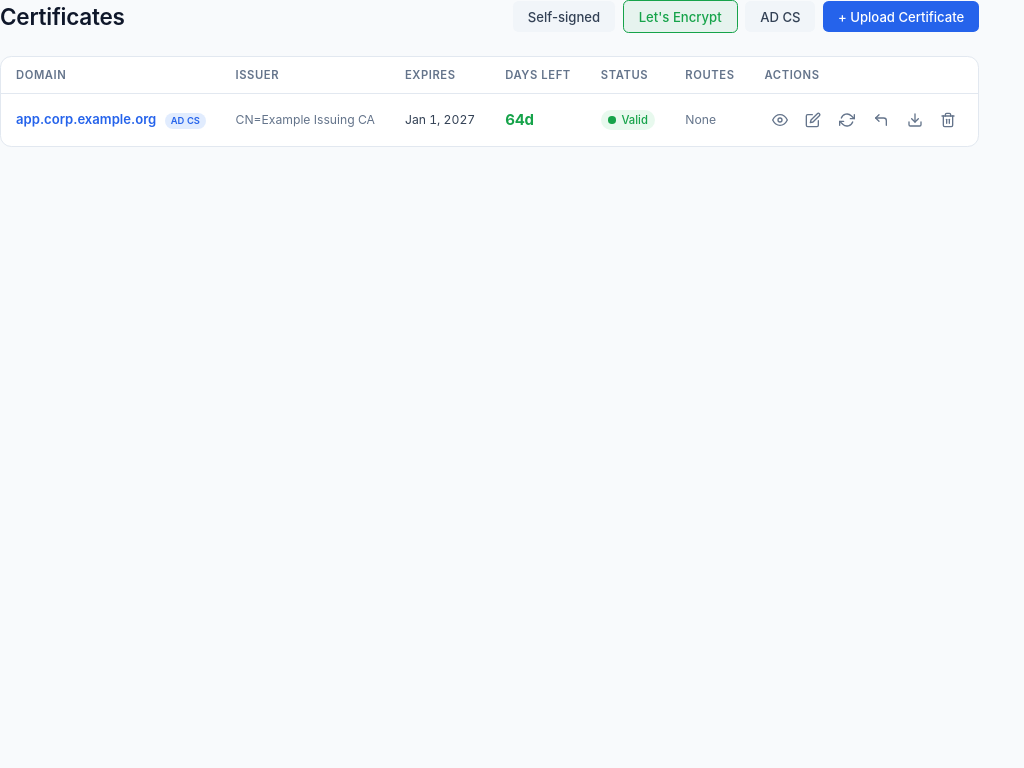
Scenario: Certificates AD CS "Renew now" outcomes › 200: shows the subject as issued and the new expiry
This screenshot has width=1024, height=768.
Check: the button "app.corp.example.org" is shown, box x1=16 y1=111 x2=156 y2=127
What coordinates should you click on to do the following:
click the button named "Renew certificate from AD CS"
I would click on:
 (847, 120)
Its box is x1=832 y1=105 x2=862 y2=135.
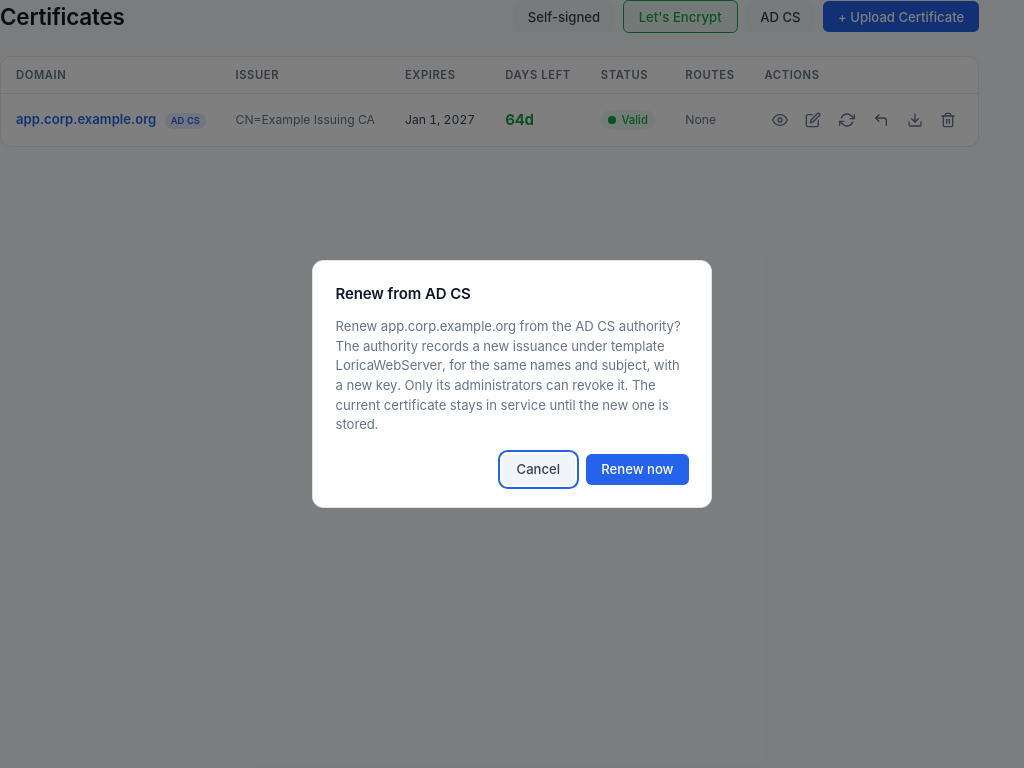
What coordinates should you click on to do the following:
click the button "Renew now"
I would click on:
 (637, 469)
Its box is x1=586 y1=454 x2=688 y2=485.
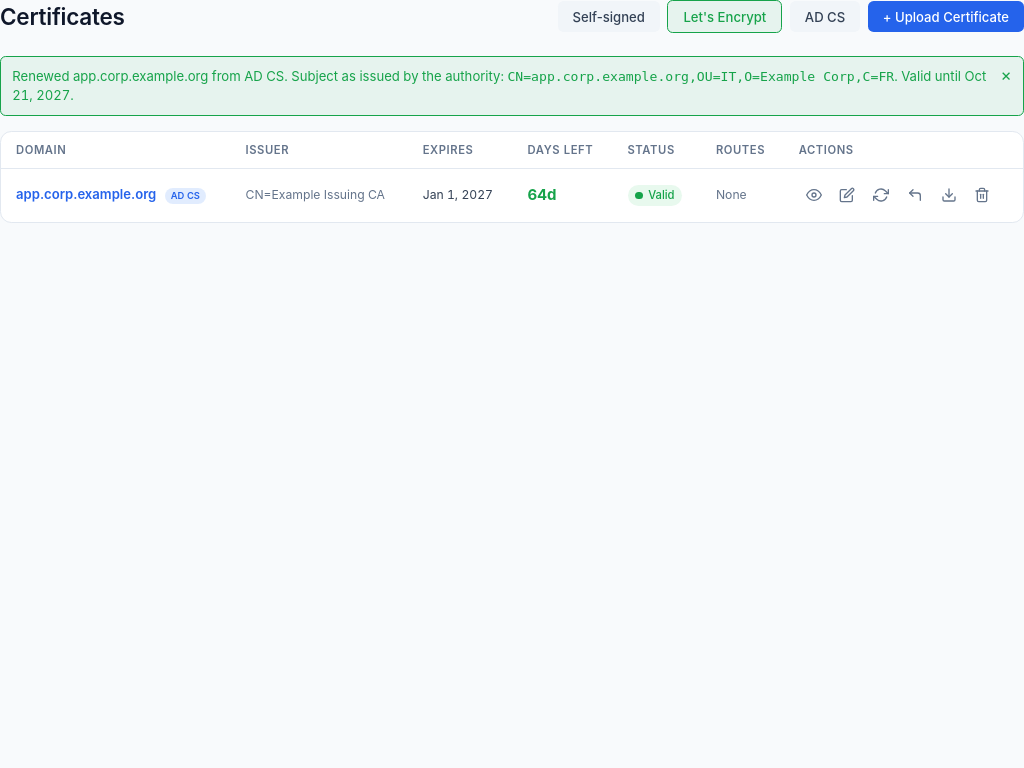
Check: the message with test id "adcs-renew-outcome" shows "Renewed app.corp.example.org", box x1=12 y1=68 x2=291 y2=84
Check: the message with test id "adcs-renew-outcome" shows "CN=app.corp.example.org,OU=IT,O=Example Corp,C=FR", box x1=507 y1=69 x2=894 y2=84
Check: the message with test id "adcs-renew-outcome" shows "Oct 21, 2027", box x1=12 y1=68 x2=986 y2=103
